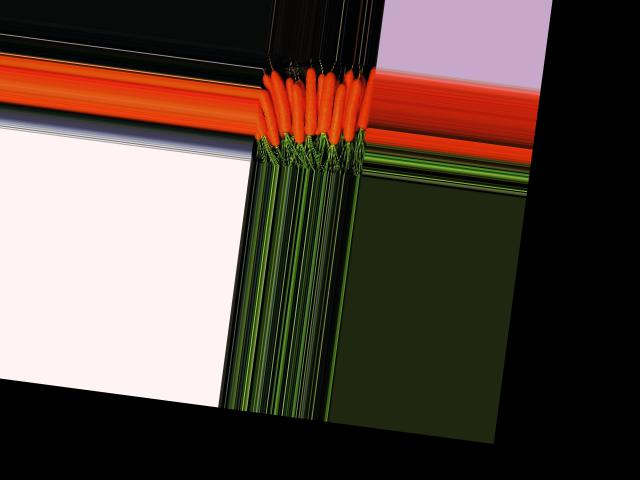carrot: (261, 83, 281, 145)
